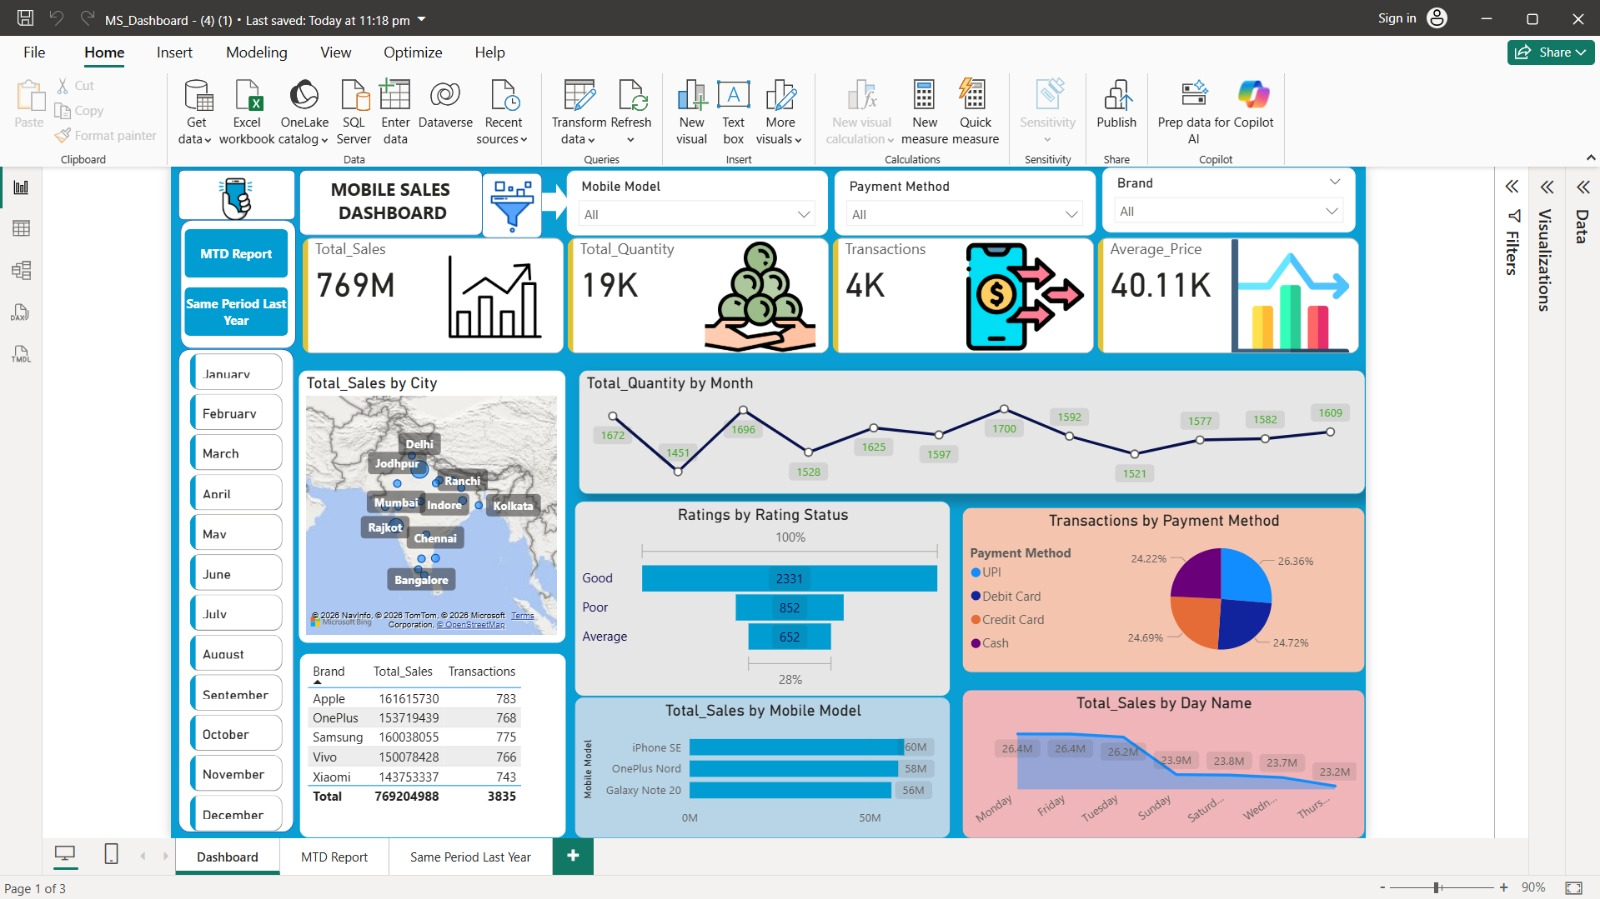

This screenshot's page, from the dashboard's own definition file:
{"tool":"powerbi","page":{"name":"Dashboard","canvas":[1280,720],"ordinal":0},"visuals":[{"type":"shape","box":[8,3.2,125.7,54.1],"z":0},{"type":"image","box":[31.8,0,76.3,70],"z":1000},{"type":"shape","box":[9.5,57.3,124.1,138.4],"z":2000},{"type":"shape","box":[8,195.6,124.1,518.5],"z":3000},{"type":"advancedSlicerVisual","fields":{"Values":["Custom_Calendar.Date.Variation.Date Hierarchy.Month"]},"box":[15.9,195.6,109.8,524.9],"z":4000},{"type":"cardVisual","fields":{"Data":["Sales_Data.Total_Sales","Sales_Data.Total_Quantity","Sales_Data.Transactions","Sales_Data.Average_Price"]},"box":[136.5,71.4,1142.9,134.9],"z":5000},{"type":"slicer","fields":{"Values":["Sales_Data.Mobile Model"]},"box":[423.8,3.8,281.2,71.2],"z":6000},{"type":"slicer","fields":{"Values":["Sales_Data.Payment Method"]},"box":[710,3.8,281.2,71.2],"z":7000},{"type":"slicer","fields":{"Values":["Sales_Data.Brand"]},"box":[996.8,0,273,71.4],"z":8000},{"type":"shape","box":[332.4,6.4,65.2,70],"z":9000},{"type":"image","box":[329.3,9.5,73.2,66.8],"z":10000},{"type":"shape","box":[397.5,17.5,30,40],"z":11000},{"type":"shape","box":[136.9,3.1,196.9,70.8],"z":12000},{"type":"textbox","box":[156.2,6.2,162.5,63.8],"z":13000},{"type":"lineChart","fields":{"Y":["Sales_Data.Total_Quantity"],"Category":["Custom_Calendar.Date.Variation.Date Hierarchy.Month"]},"box":[436.5,217.5,842.9,133.3],"z":14000},{"type":"funnel","title":"Ratings by Rating Status","fields":{"Y":["CountNonNull(Sales_Data.Customer Ratings)"],"Category":["Sales_Data.Rating Status"]},"box":[431.7,358.7,403.2,209.5],"z":15000},{"type":"pieChart","fields":{"Y":["Sales_Data.Transactions"],"Category":["Sales_Data.Payment Method"]},"box":[847.6,365.1,431.7,177.8],"z":16000},{"type":"clusteredBarChart","fields":{"Y":["Sales_Data.Total_Sales"],"Category":["Sales_Data.Mobile Model"]},"box":[431.7,568.3,403.2,152.4],"z":17000},{"type":"areaChart","fields":{"Y":["Sales_Data.Total_Sales"],"Category":["Custom_Calendar.Day Name"]},"box":[847.6,560.3,431.7,160.3],"z":18000},{"type":"tableEx","fields":{"Values":["Sales_Data.Brand","Sales_Data.Total_Sales","Sales_Data.Transactions"]},"box":[136.9,521.5,286.2,198.5],"z":19000},{"type":"pageNavigator","box":[14.3,66.8,111.3,114.5],"z":20000},{"type":"map","fields":{"Category":["Sales_Data.City"],"Size":["Sales_Data.Total_Sales"]},"box":[136.5,217.5,287.3,293.7],"z":21000}]}

Visuals, with their boxes on the page's 1280x720 design canvas (x1, y1, x2, y2). These are canvas units, not pixel positions in the 1600x899 screenshot, which may show the page scaled, cropped or inside an application window:
shape: {"x1": 8, "y1": 3, "x2": 134, "y2": 57}
image: {"x1": 32, "y1": 0, "x2": 108, "y2": 70}
shape: {"x1": 10, "y1": 57, "x2": 134, "y2": 196}
shape: {"x1": 8, "y1": 196, "x2": 132, "y2": 714}
advancedSlicerVisual - Custom_Calendar.Date.Variation.Date Hierarchy.Month: {"x1": 16, "y1": 196, "x2": 126, "y2": 720}
cardVisual - Sales_Data.Total_Sales x Sales_Data.Total_Quantity: {"x1": 136, "y1": 71, "x2": 1279, "y2": 206}
slicer - Sales_Data.Mobile Model: {"x1": 424, "y1": 4, "x2": 705, "y2": 75}
slicer - Sales_Data.Payment Method: {"x1": 710, "y1": 4, "x2": 991, "y2": 75}
slicer - Sales_Data.Brand: {"x1": 997, "y1": 0, "x2": 1270, "y2": 71}
shape: {"x1": 332, "y1": 6, "x2": 398, "y2": 76}
image: {"x1": 329, "y1": 10, "x2": 402, "y2": 76}
shape: {"x1": 398, "y1": 18, "x2": 428, "y2": 58}
shape: {"x1": 137, "y1": 3, "x2": 334, "y2": 74}
textbox: {"x1": 156, "y1": 6, "x2": 319, "y2": 70}
lineChart - Sales_Data.Total_Quantity x Custom_Calendar.Date.Variation.Date Hierarchy.Month: {"x1": 436, "y1": 218, "x2": 1279, "y2": 351}
"Ratings by Rating Status" funnel: {"x1": 432, "y1": 359, "x2": 835, "y2": 568}
pieChart - Sales_Data.Transactions x Sales_Data.Payment Method: {"x1": 848, "y1": 365, "x2": 1279, "y2": 543}
clusteredBarChart - Sales_Data.Total_Sales x Sales_Data.Mobile Model: {"x1": 432, "y1": 568, "x2": 835, "y2": 721}
areaChart - Sales_Data.Total_Sales x Custom_Calendar.Day Name: {"x1": 848, "y1": 560, "x2": 1279, "y2": 721}
tableEx - Sales_Data.Brand x Sales_Data.Total_Sales: {"x1": 137, "y1": 522, "x2": 423, "y2": 720}
pageNavigator: {"x1": 14, "y1": 67, "x2": 126, "y2": 181}
map - Sales_Data.City x Sales_Data.Total_Sales: {"x1": 136, "y1": 218, "x2": 424, "y2": 511}
